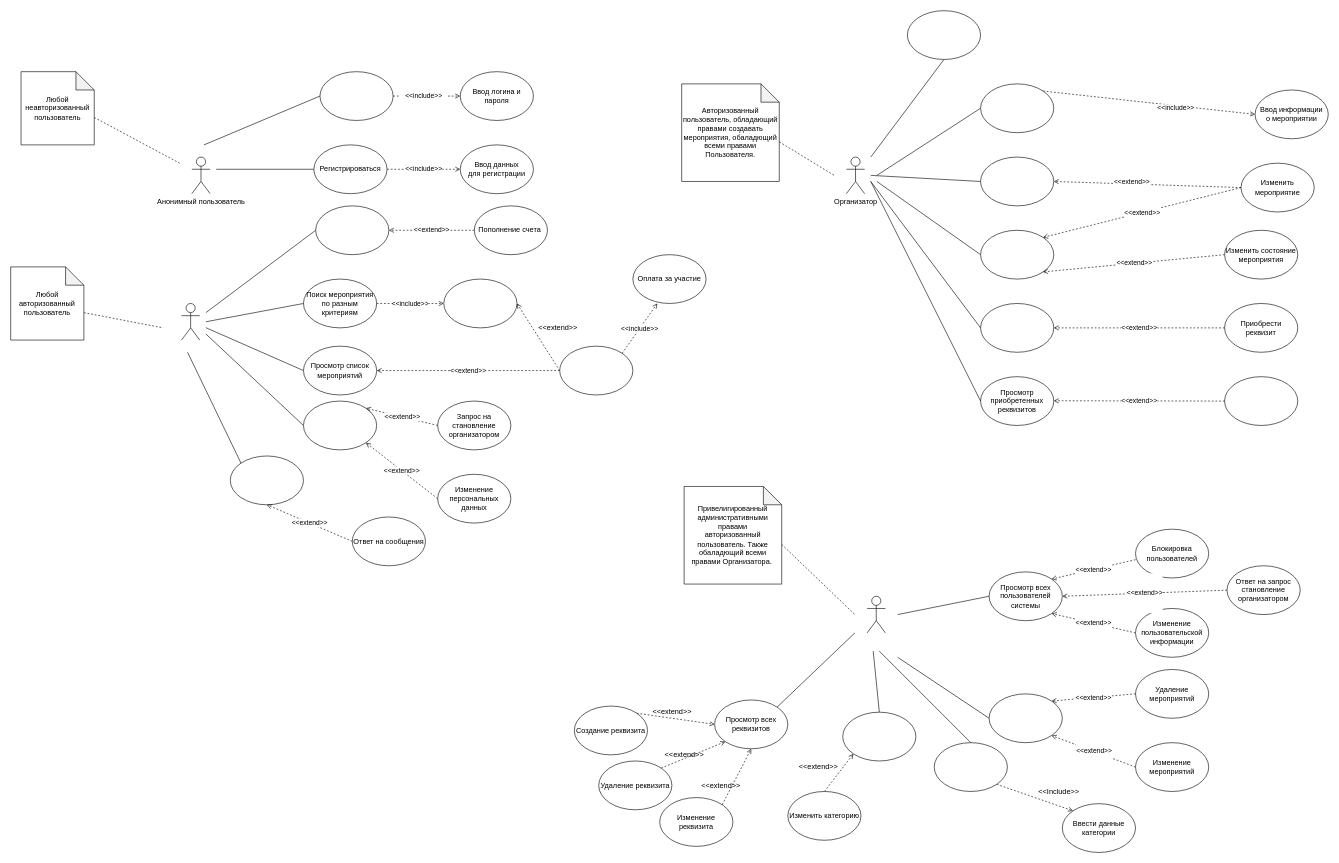
Image size: 1339x863. Some labels were removed from this diagram. The shapes that lost their labels are listed below. From the top down, each one's box as (x1, y1, x2, y2) in pixels, then its label:
(907, 10, 981, 59): Вывод средств
(319, 71, 393, 120): Авторизироваться
(980, 83, 1054, 133): Создать мероприятие
(980, 156, 1054, 206): Поиск мероприятий
(315, 205, 389, 255): Просмотр баланса
(980, 230, 1054, 279): Просмотр своих мероприятий
(181, 303, 200, 340): Пользователь
(443, 278, 517, 328): Ввод данных для поиска
(980, 303, 1054, 352): Просмотр предлагаемых реквизитов
(559, 346, 633, 395): Принять участие в мероприятие
(1224, 376, 1298, 425): Отмена заказа
(303, 400, 377, 450): Просмотр персональных данных
(230, 455, 303, 505): Просмотр сообщений
(867, 596, 885, 633): Администратор
(842, 712, 916, 761): Просмотр всех категорий
(989, 693, 1062, 743): Просмотр всех мероприятий
(934, 742, 1007, 791): Создать категорию
